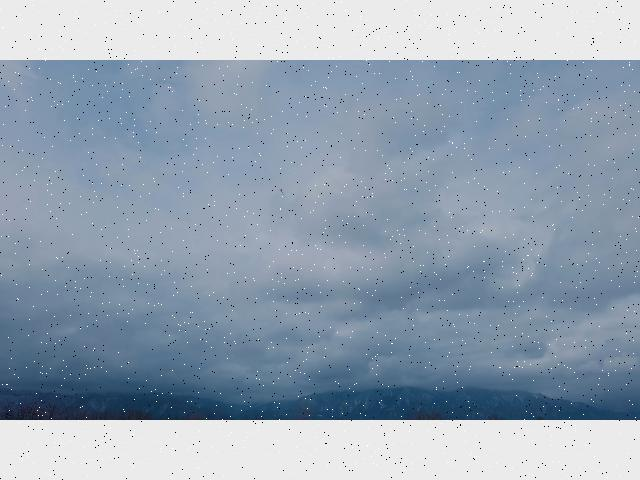Anti-Drone: (278, 184, 286, 199)
